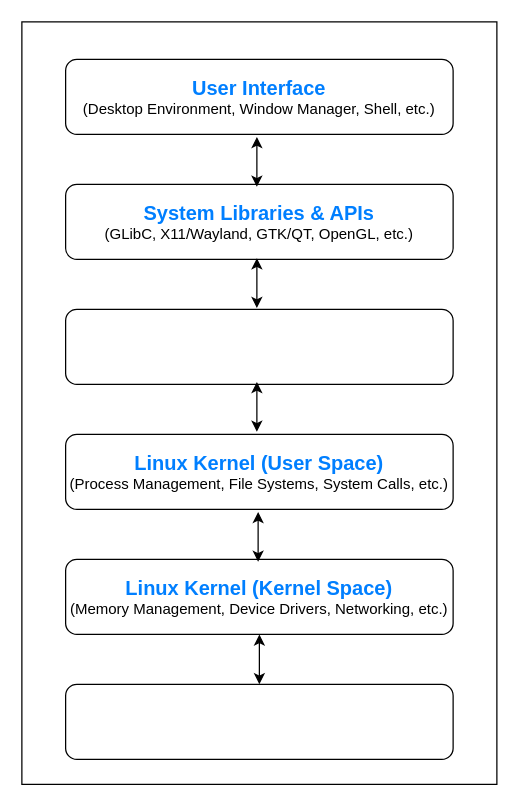
The diagram is 519 pixels wide and 806 high, and some of its shapes have lost their labels. The centre of each missing label's shape, as x and y in pixels:
Hardware (CPU, Memory, Storage, Network Card, Graphics, etc.): (x=258, y=721)
System Daemons & Services (cron, dbus, NetworkManager, systemd, etc.): (x=258, y=346)
